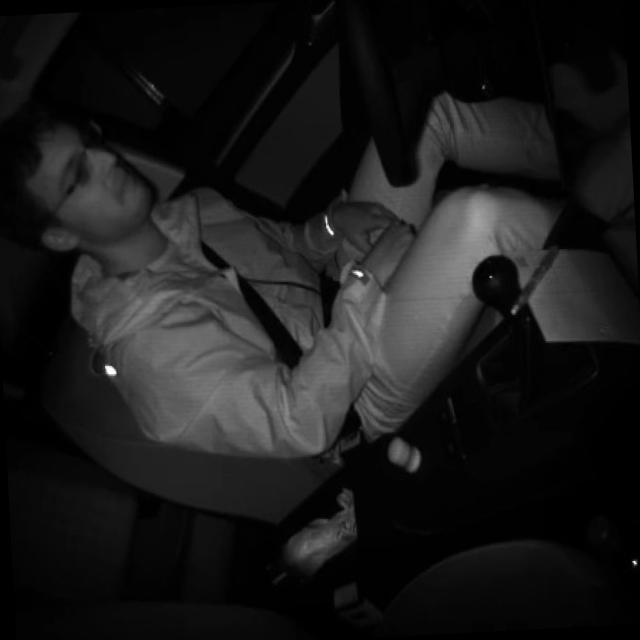pen: (506, 238, 566, 317)
